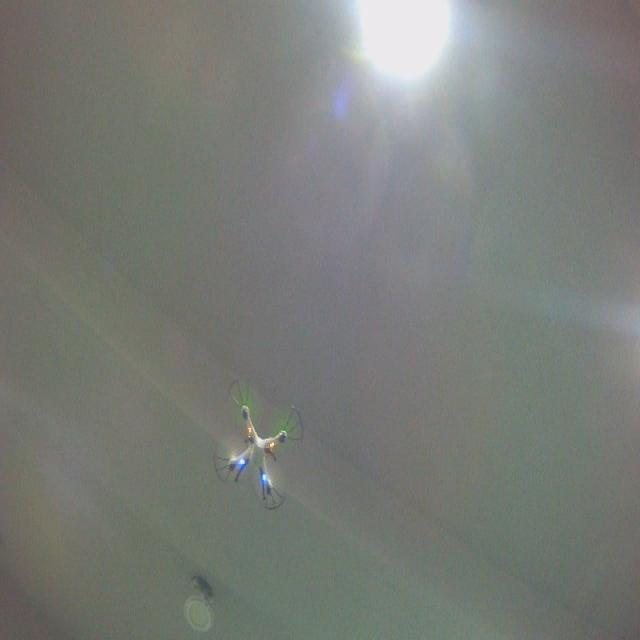drone: (212, 372, 306, 512)
